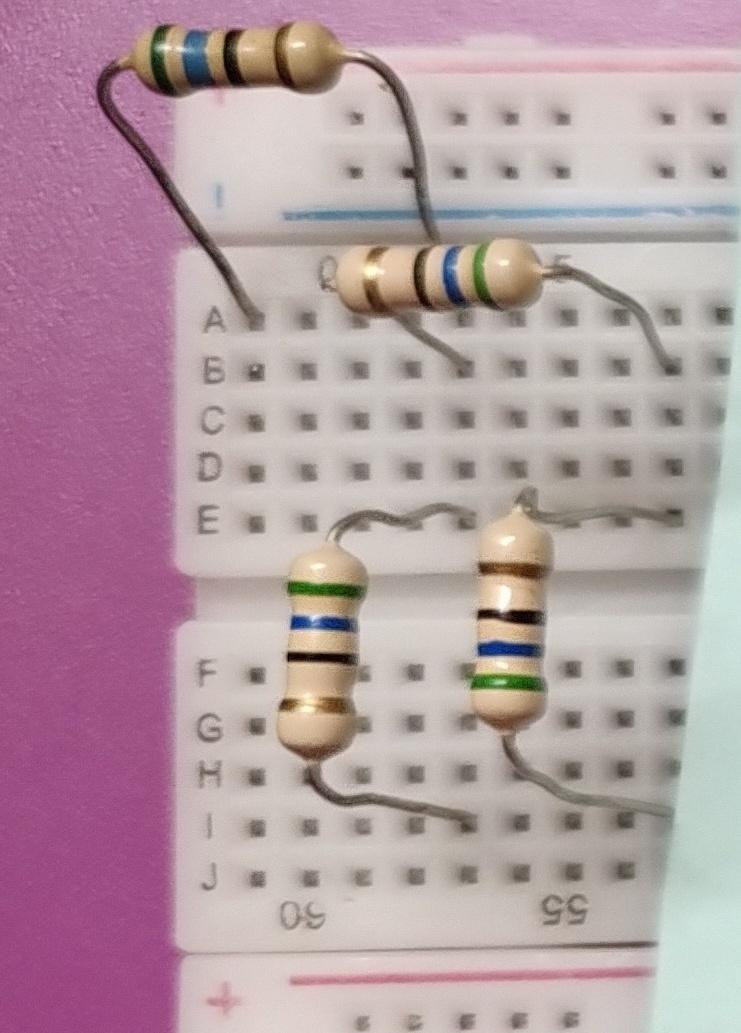resistor: (302, 220, 558, 328), (122, 3, 348, 125), (457, 510, 562, 752), (270, 540, 380, 768)
